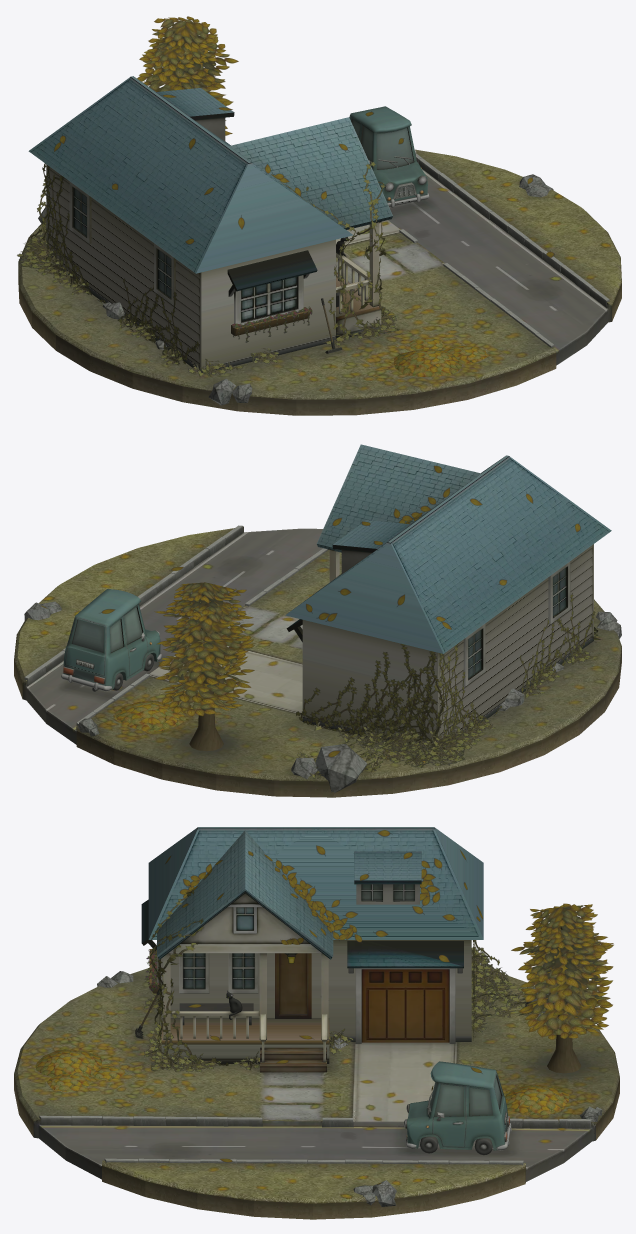
The picture shows the model from 3 angles, top to bottom: view 1: azimuth 30°, elevation 25°; view 2: azimuth 150°, elevation 25°; view 3: azimuth 270°, elevation 25°; orthographic projection.
Visible parts, largest first — view 1: polySurface637_lambert15_0, House_roof_part_01_House_part01_mat_0, polySurface529_lambert14_0, House_roof_windows_01_lambert16_0, initialShadingGrouppolySurface116_polySurface3_lambert17_0; view 2: House_roof_part_01_House_part01_mat_0, polySurface637_lambert15_0, polySurface529_lambert14_0, initialShadingGrouppolySurface116_polySurface3_lambert17_0, House_roof_windows_01_lambert16_0; view 3: polySurface637_lambert15_0, House_roof_part_01_House_part01_mat_0, House_roof_windows_01_lambert16_0, polySurface529_lambert14_0, initialShadingGrouppolySurface116_polySurface3_lambert17_0.
Part boxes in pixels (x1,y1,x2,y2): polySurface637_lambert15_0: [18, 149, 621, 415]; House_roof_part_01_House_part01_mat_0: [28, 76, 392, 372]; polySurface529_lambert14_0: [17, 16, 609, 405]; House_roof_windows_01_lambert16_0: [69, 88, 381, 340]; initialShadingGrouppolySurface116_polySurface3_lambert17_0: [349, 106, 429, 207]; House_roof_part_01_House_part01_mat_0: [285, 444, 611, 747]; polySurface637_lambert15_0: [14, 526, 621, 797]; polySurface529_lambert14_0: [24, 465, 621, 792]; initialShadingGrouppolySurface116_polySurface3_lambert17_0: [61, 589, 161, 691]; House_roof_windows_01_lambert16_0: [286, 520, 570, 686]; polySurface637_lambert15_0: [14, 968, 619, 1219]; House_roof_part_01_House_part01_mat_0: [148, 827, 483, 1062]; House_roof_windows_01_lambert16_0: [141, 851, 463, 1072]; polySurface529_lambert14_0: [35, 830, 613, 1206]; initialShadingGrouppolySurface116_polySurface3_lambert17_0: [404, 1061, 511, 1155].
Size of the model in its own units: 0.8067 by 0.3 by 0.8093.
6 materials, 5 textured.
